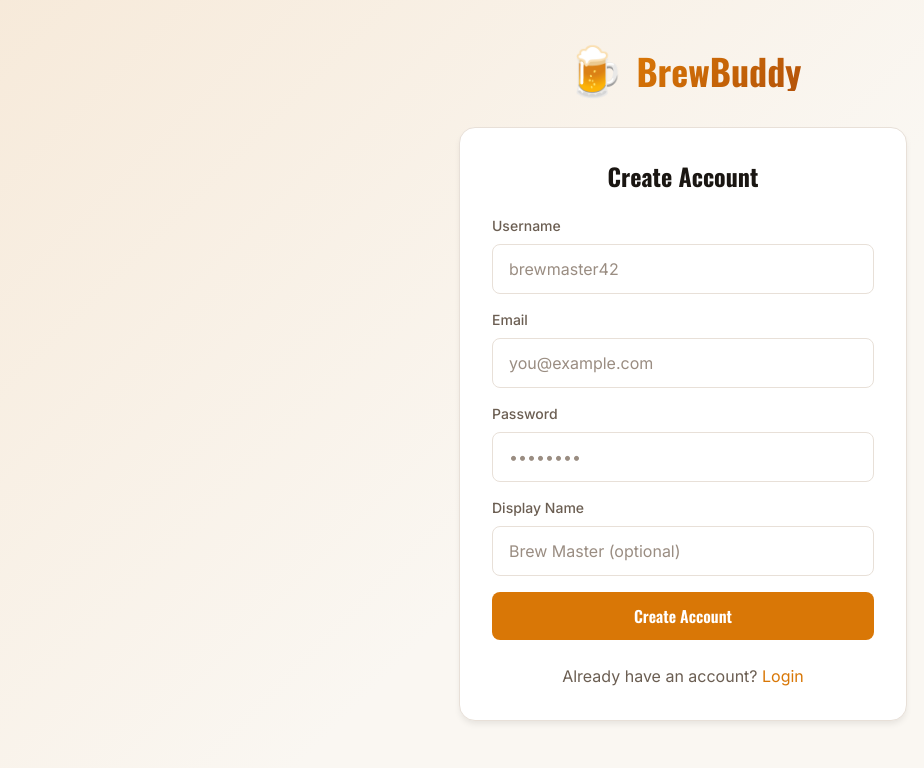
Test: Register Page › displays password length error for short password
In the password field labelled "Password": (683, 457) top-left (492, 432), bottom-right (874, 482), type "1234567"
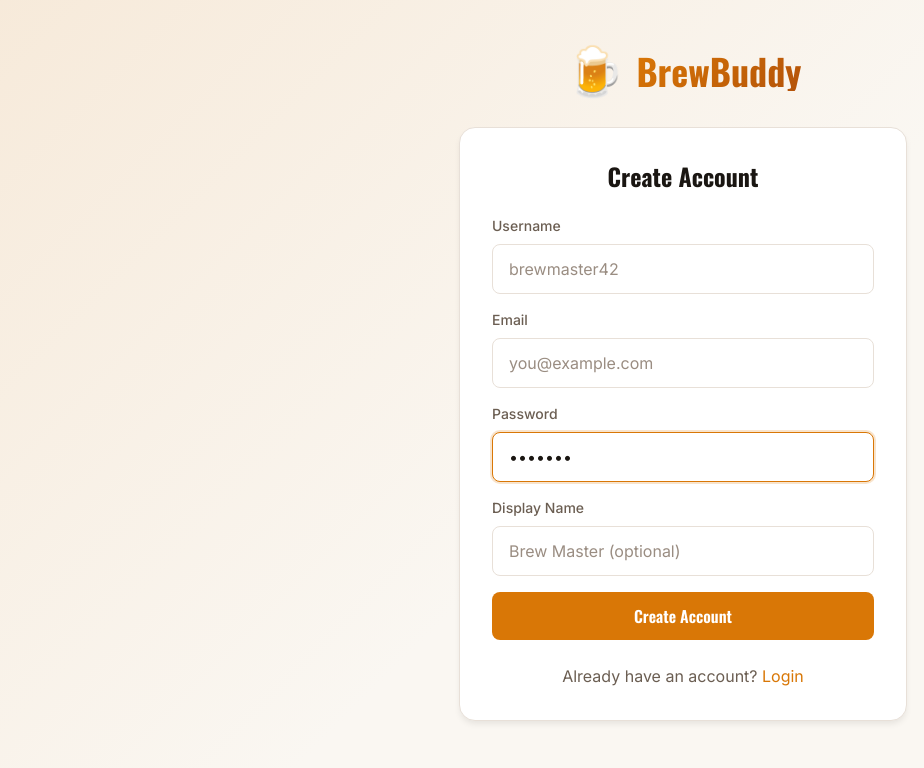
Click the button "Create Account": (683, 616) top-left (492, 592), bottom-right (874, 640)
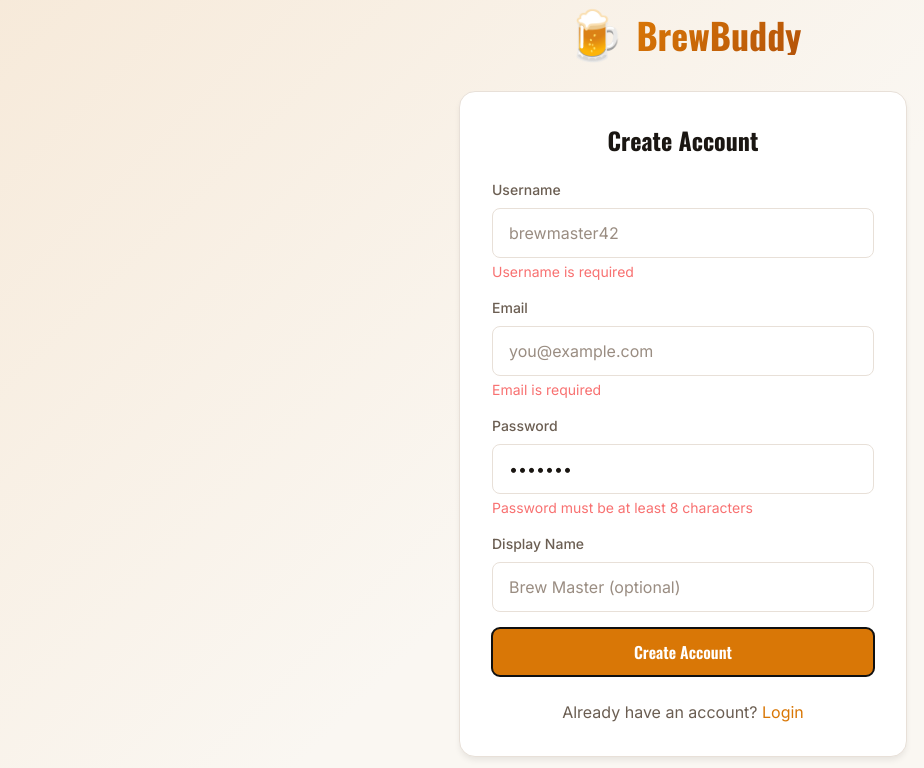
Now the text "Password must be at least 8 characters" is shown, box top-left (492, 499), bottom-right (753, 516)
